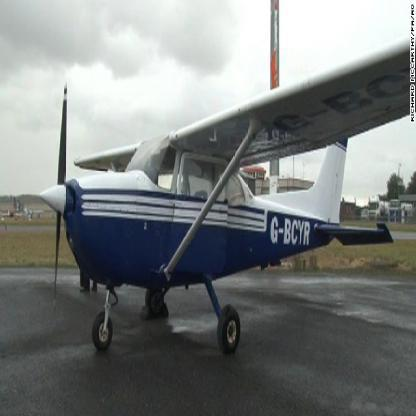CIV_Plane: (34, 34, 413, 368)
